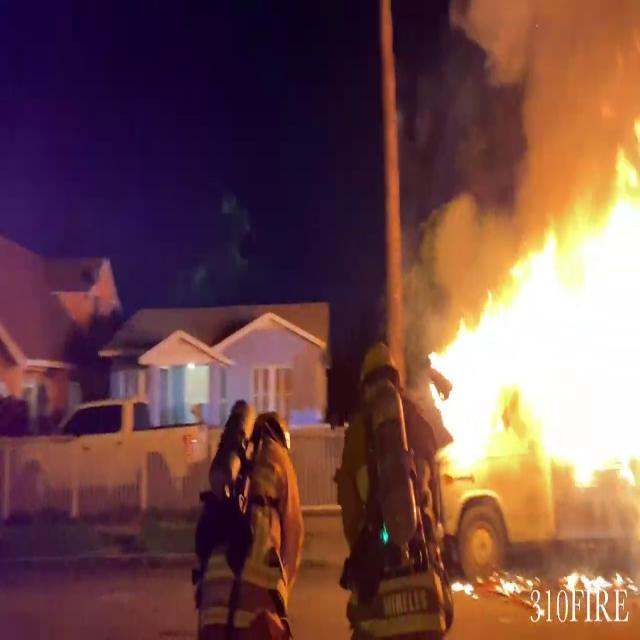Fire: (419, 119, 640, 495)
Smoke: (448, 0, 640, 192)
